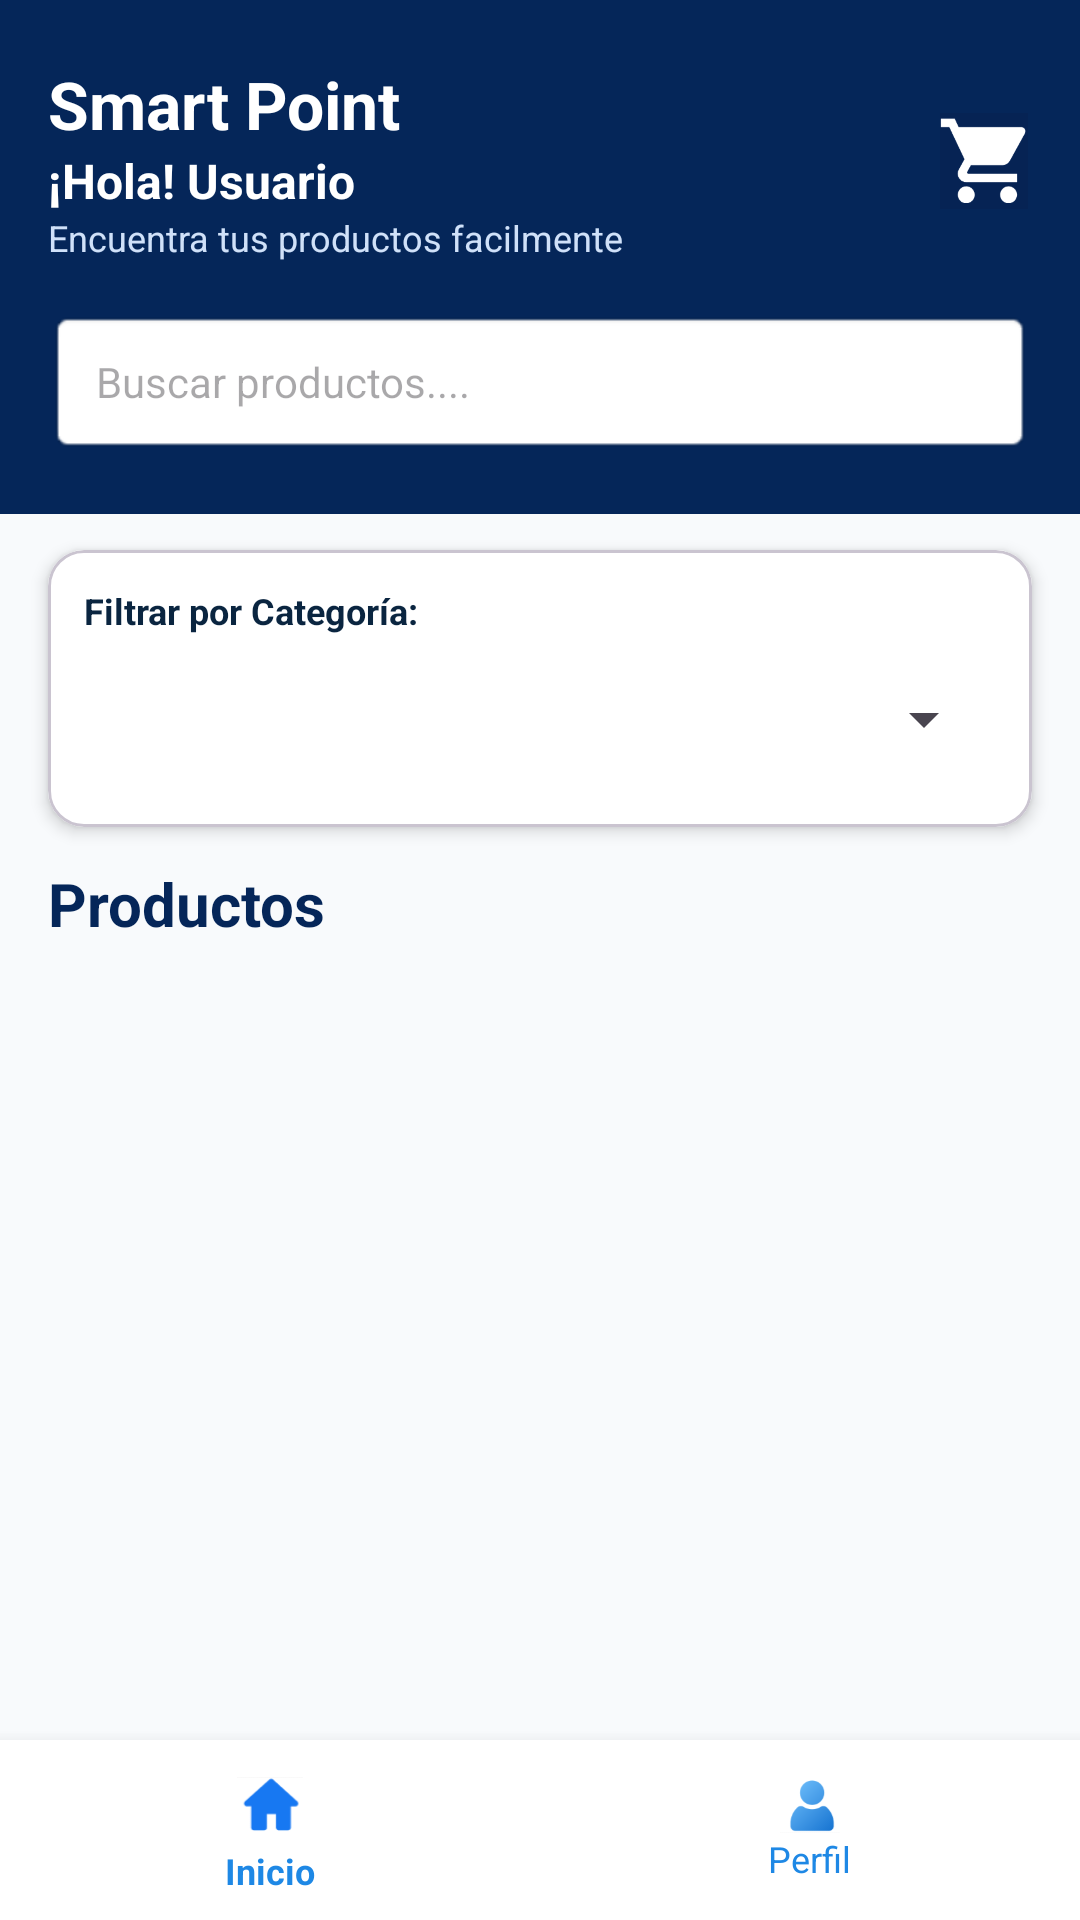

Icons on this 1080*1920 Android screen, each with its box as bbox=(x1, y1, x2, y2):
Carrito: bbox=(940, 118, 1026, 203)
